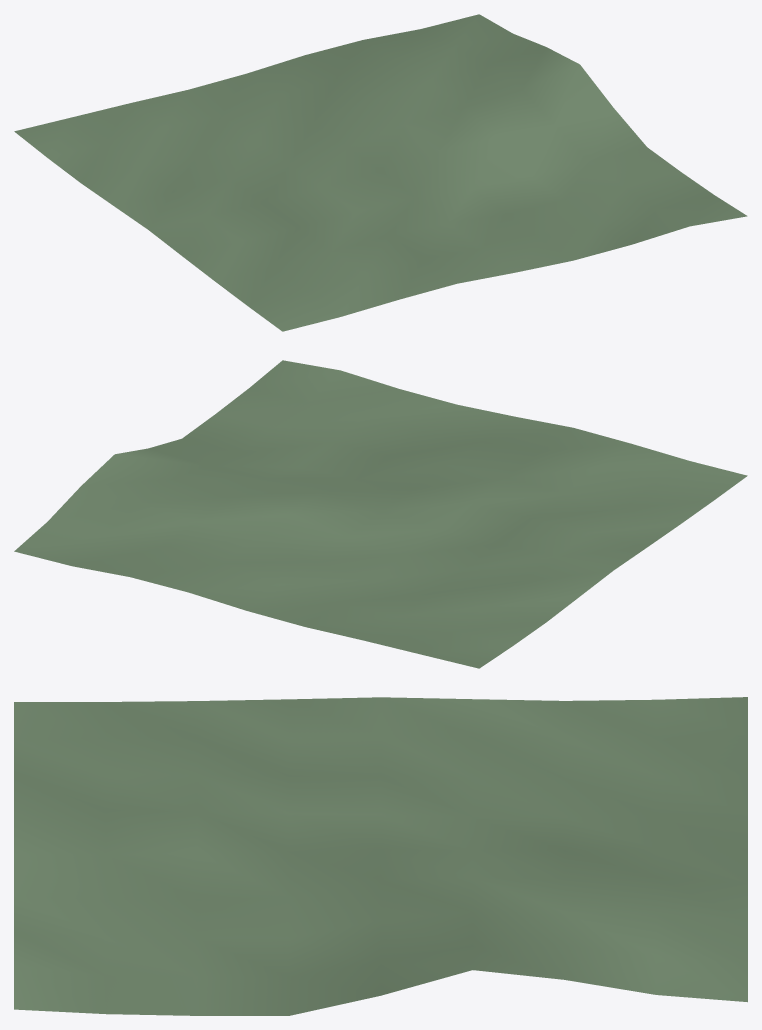
3 views of the same model, one above another, from view 1: azimuth 30°, elevation 25°; view 2: azimuth 150°, elevation 25°; view 3: azimuth 270°, elevation 25° (orthographic). The views are drawn at different scales.
Parts seen in each view (by area): view 1: Lo; view 2: Lo; view 3: Lo.
Part boxes in pixels (x1=…): Lo: x1=14, y1=14, x2=747, y2=331; Lo: x1=14, y1=360, x2=747, y2=668; Lo: x1=14, y1=697, x2=747, y2=1015.
Bounding box in the file's own units: 256 × 17.65 × 256.
